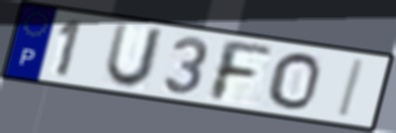1: (53, 18, 84, 78)
3: (161, 34, 211, 97)
F: (208, 36, 275, 104)
I: (334, 57, 368, 121)
O: (266, 50, 323, 112)
U: (101, 20, 168, 91)
